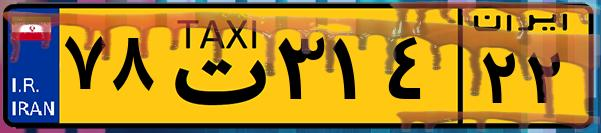1: (330, 28, 385, 110)
2: (475, 38, 525, 113), (525, 38, 570, 115)
3: (270, 28, 330, 110)
4: (385, 28, 445, 110)
7: (57, 26, 110, 100)
8: (110, 28, 158, 98)
ت: (158, 12, 270, 120)
